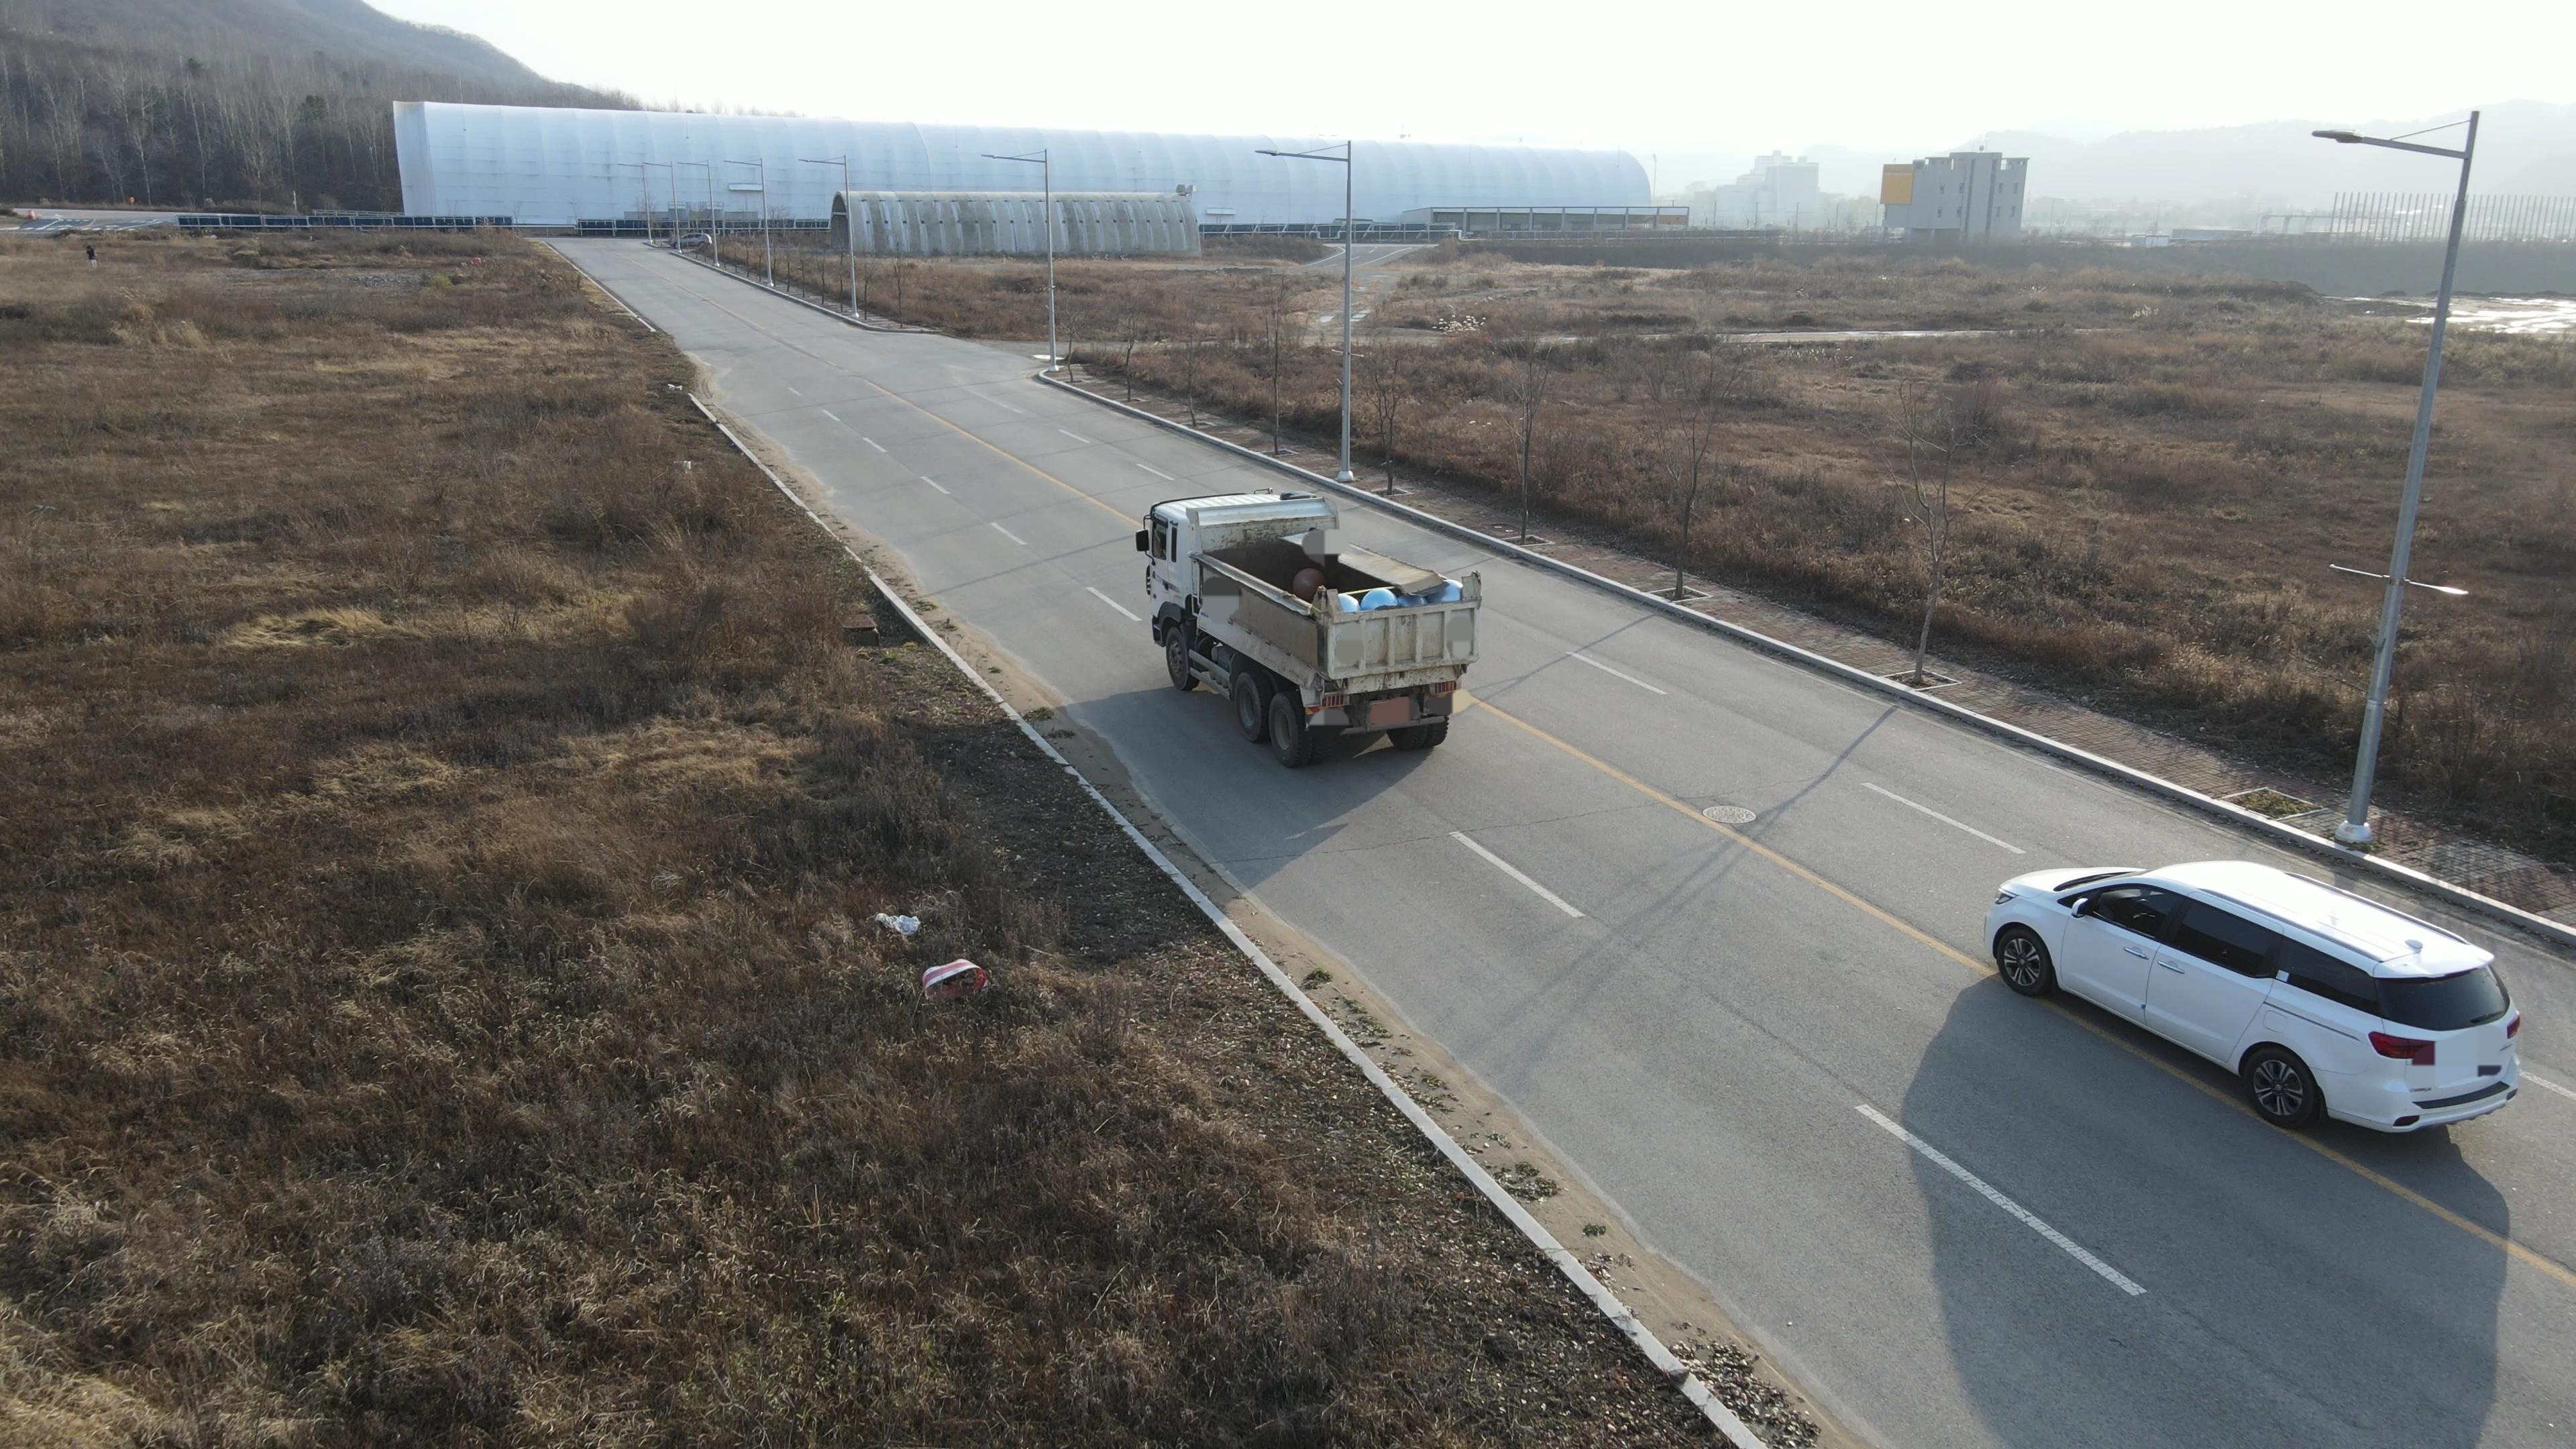불법차량: (1136, 487, 1484, 770)
